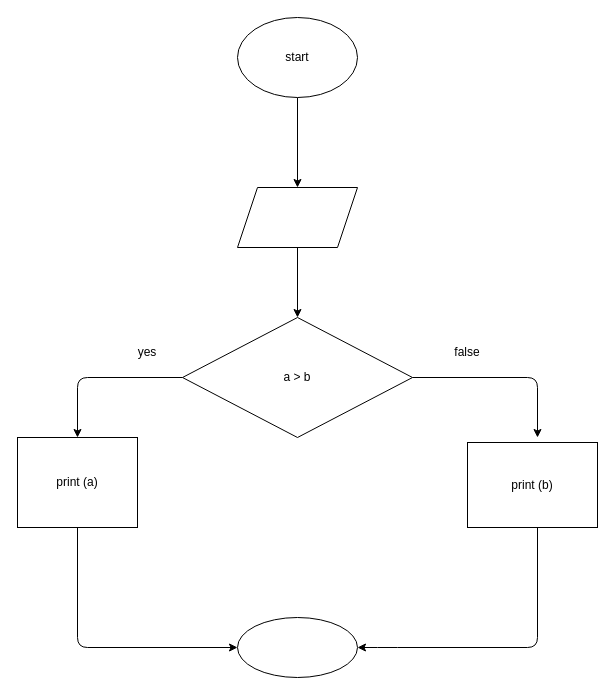
This 615x695 diagram has some shape labels left out. The centre of each missing label's shape, as x and y in pixels:
a, b: (x=297, y=217)
finish: (x=297, y=647)
